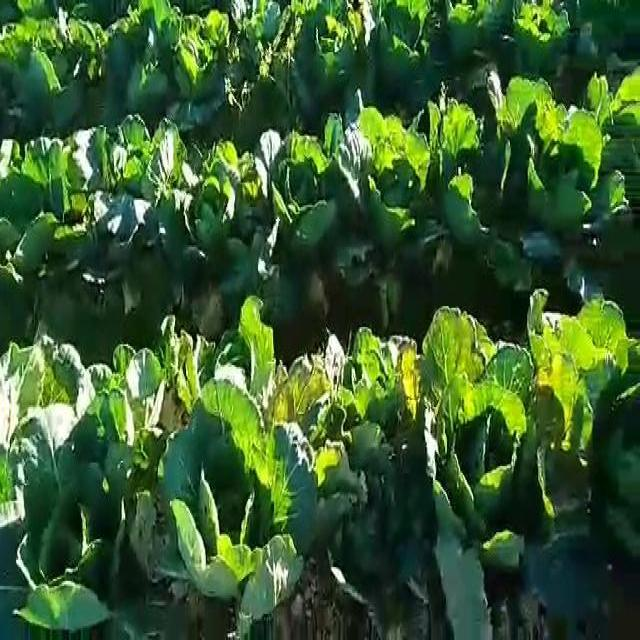Cabbage: (401, 308, 537, 574), (159, 391, 307, 621), (534, 270, 624, 510), (0, 335, 72, 535), (512, 100, 605, 240), (352, 105, 434, 250), (266, 110, 348, 255), (94, 345, 174, 493), (288, 422, 370, 543), (435, 93, 494, 250), (187, 126, 257, 232), (300, 0, 366, 99), (159, 20, 230, 112), (335, 324, 402, 416), (12, 30, 79, 114), (143, 121, 194, 227), (25, 121, 101, 192), (377, 0, 432, 85), (512, 0, 584, 64), (448, 1, 512, 65), (102, 110, 150, 189), (121, 43, 167, 115), (234, 0, 292, 54)
